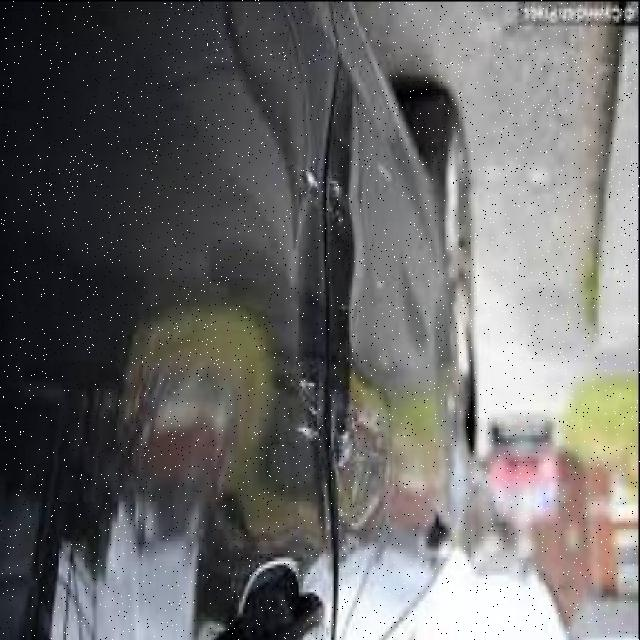damage: (272, 47, 386, 536)
